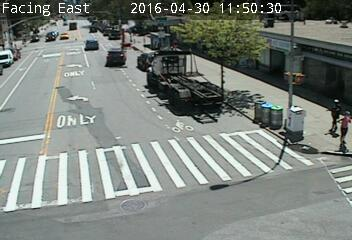neg: (178, 92, 219, 146), (164, 164, 202, 215), (120, 77, 152, 120)
